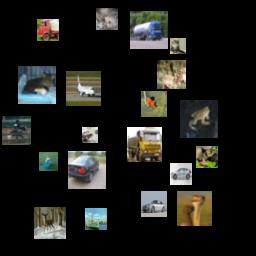airplane: (66, 71, 101, 106)
automobile: (68, 151, 106, 189), (141, 191, 167, 217), (170, 163, 192, 185)
bird: (177, 191, 212, 226), (141, 91, 167, 117)
cat: (18, 66, 56, 104), (196, 146, 218, 168), (170, 38, 186, 54)
deer: (34, 207, 66, 239), (157, 60, 186, 89)
dog: (96, 8, 118, 30), (39, 152, 58, 171)
frog: (180, 100, 218, 138), (82, 127, 98, 143)
ship: (85, 208, 107, 230)
truck: (130, 11, 168, 49), (127, 127, 162, 162), (37, 19, 59, 41)
